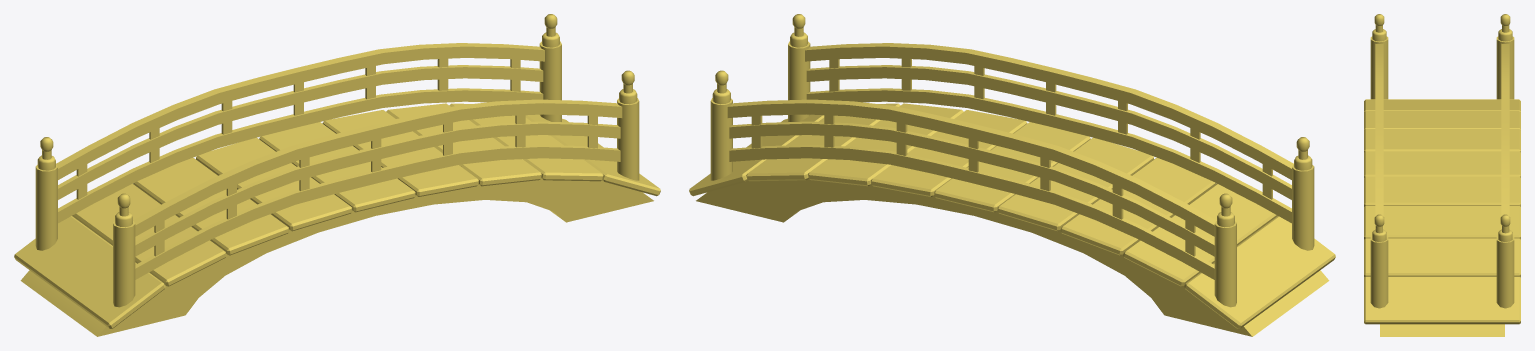
File: bridge.fbx
3 renders of one model, left to right at view 1: azimuth 30°, elevation 25°; view 2: azimuth 150°, elevation 25°; view 3: azimuth 270°, elevation 25°, orthographic. The views are drawn at different scales.
Visible parts, largest first — view 1: bridge; view 2: bridge; view 3: bridge.
Boxes of the visible parts, x1,y1,x2,y2 form: bridge: (14, 14, 660, 336); bridge: (689, 14, 1335, 336); bridge: (1364, 14, 1520, 336).
Size of the model in its own units: 1543 by 378 by 462.
